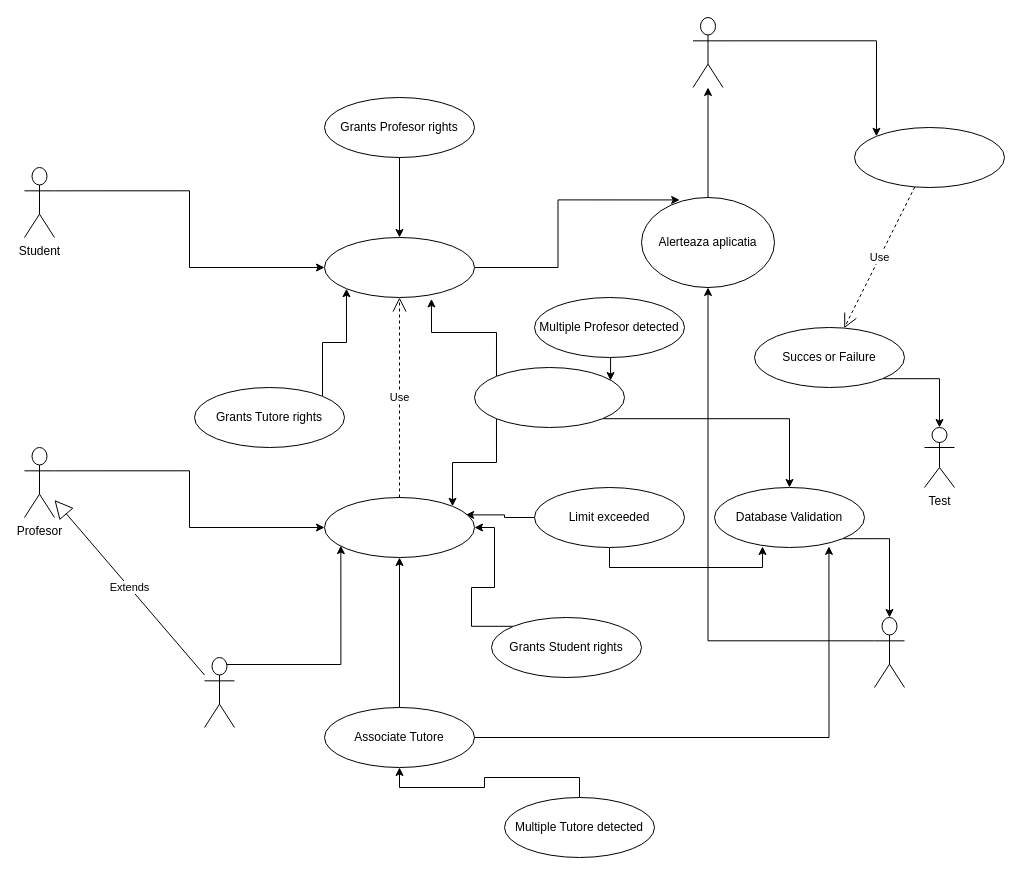
Image size: 1022x875. Some labels were removed from this diagram. The shapes that lost their labels are listed below. From the top down, each one's centre as x and y in pixels, then its label:
At (x=707, y=52): "Aplicatie".
At (x=929, y=157): "Return Error".
At (x=399, y=267): "Login".
At (x=549, y=397): "Choose Profesor".
At (x=399, y=527): "Login - Profesor (Tutore)".
At (x=889, y=652): "Baza de Date".
At (x=219, y=692): "Tutore".
